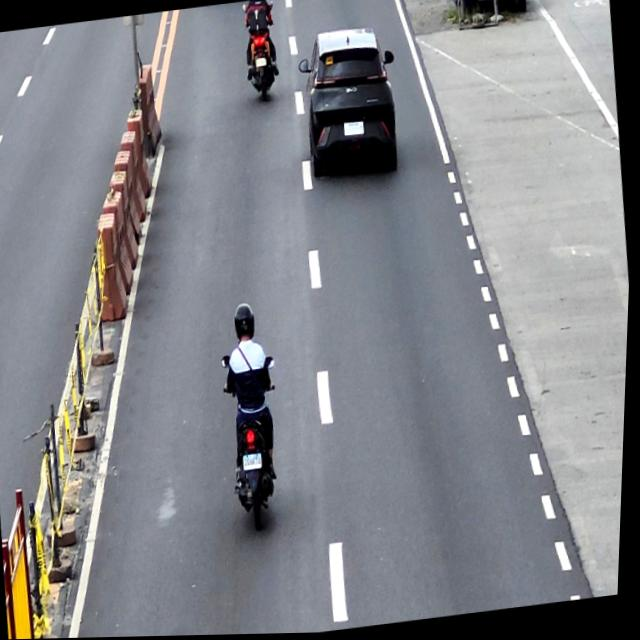Car: (291, 22, 407, 184)
License-Plate: (245, 452, 266, 472), (343, 121, 365, 138), (255, 57, 267, 68)
Motorcycle: (218, 347, 296, 535), (238, 1, 283, 103)
